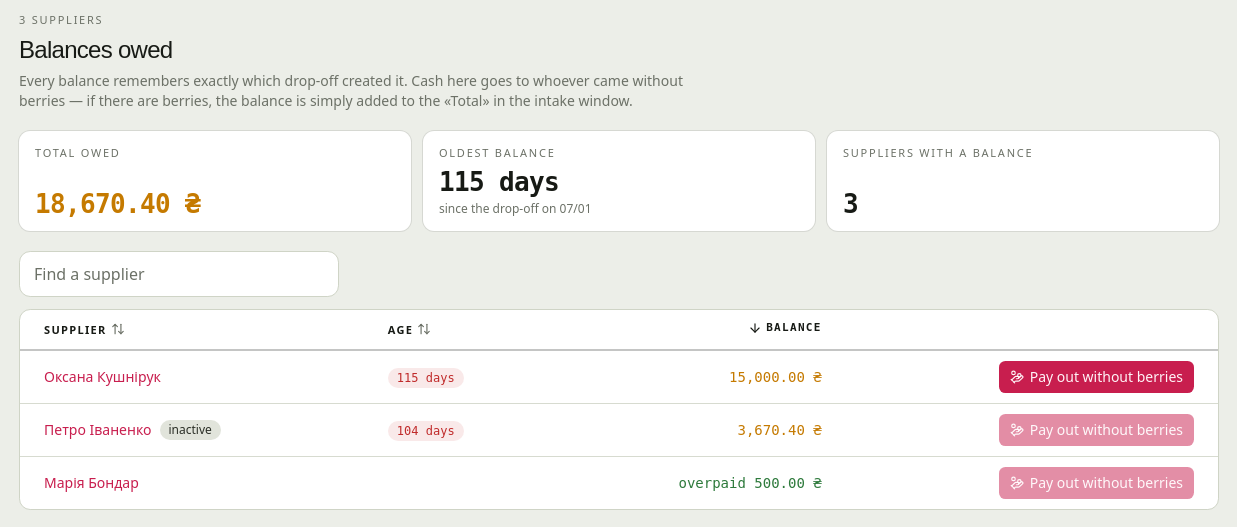
it: DebtsPage — the operator › filters the loaded rows client-side by name as the operator types
Type "Кушн" into the search field labelled "Find a supplier" at (179, 274), box [19,251,339,297]
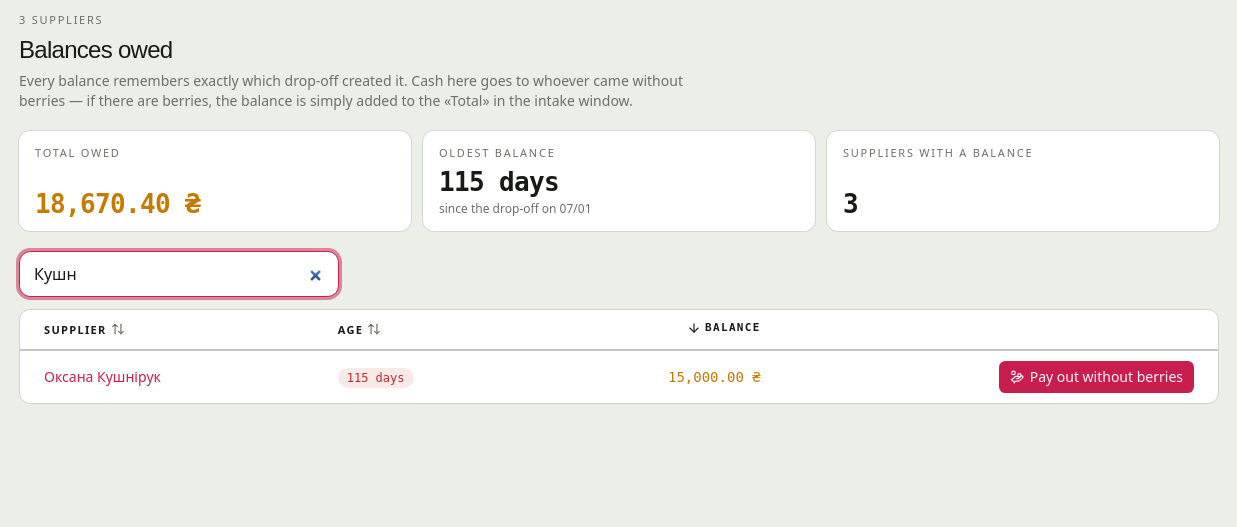
Expected: the link "Оксана Кушнірук" is shown, [44,367,161,387]
Now the link "Петро Іваненко" is gone
Now the link "Марія Бондар" is gone
